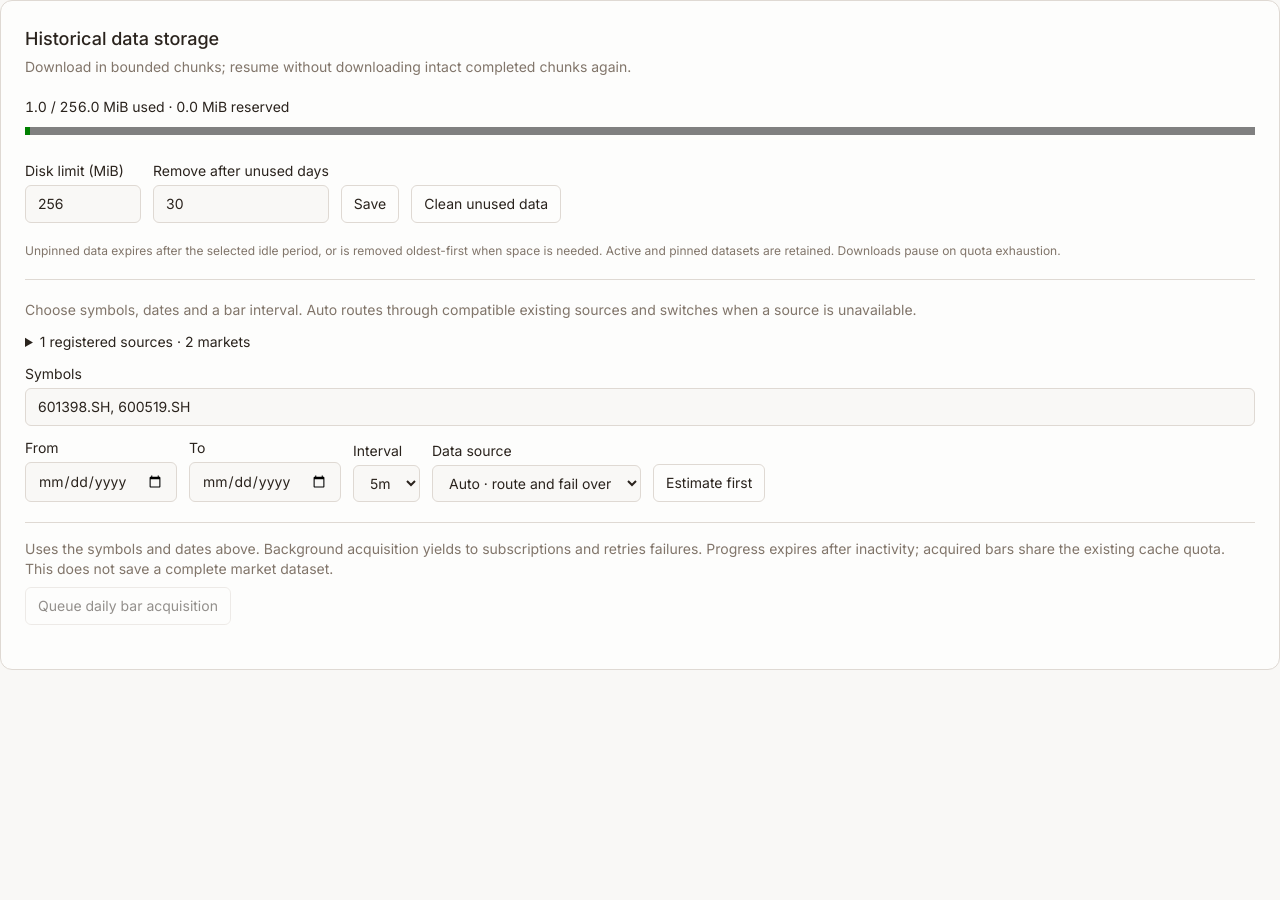
shows failed quota changes and keeps the saved usage visible
Expected: the text "1.0 / 256.0 MiB used · 0.0 MiB reserved" is shown, [25, 98, 289, 115]
What coordinates should you click on to do the following:
click the button "Save"
I would click on:
 (370, 204)
Its box is [341, 185, 399, 223].
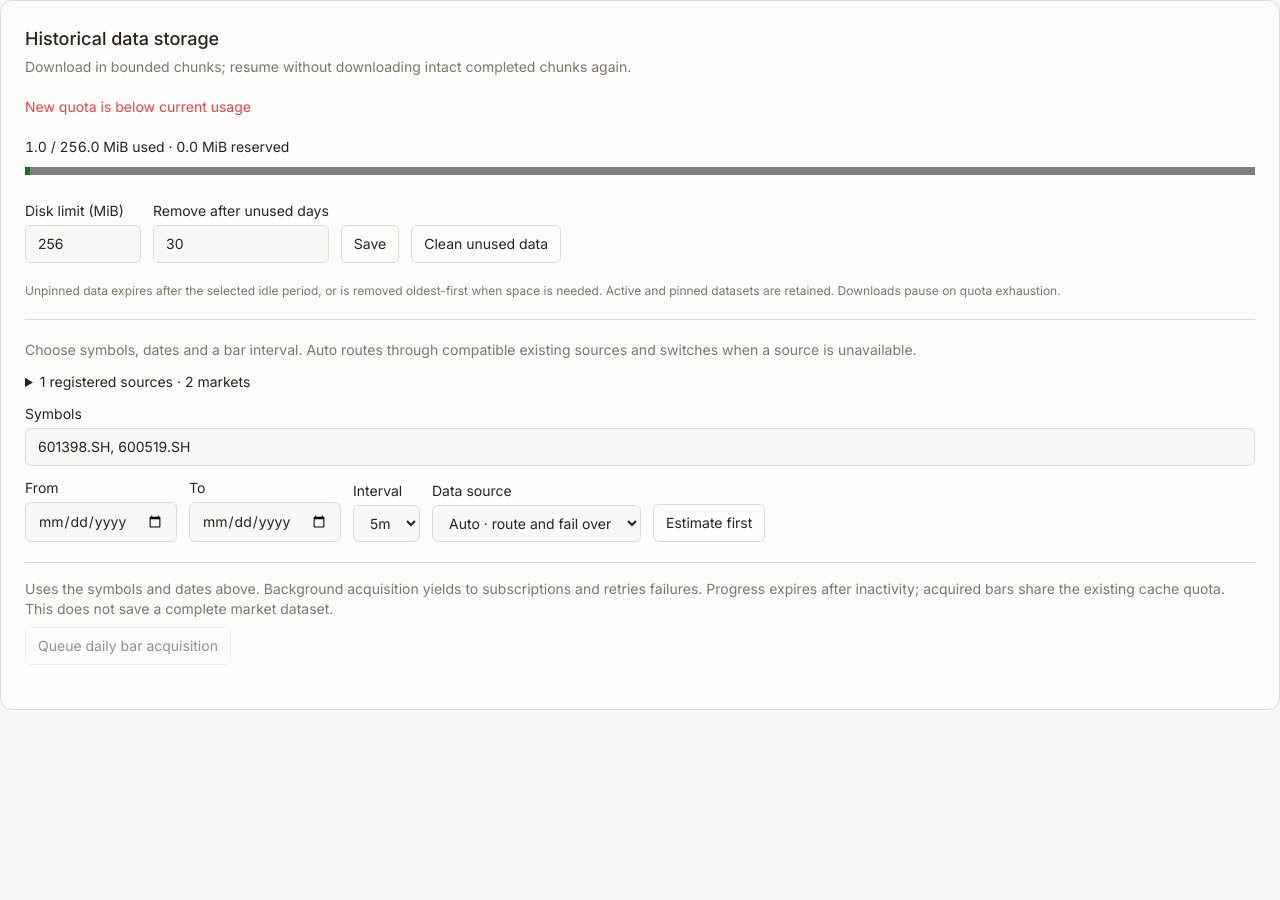
Expected: the text "1.0 / 256.0 MiB used · 0.0 MiB reserved" is shown, [25, 138, 289, 155]
Result: the message shows "below current usage" at [25, 98, 251, 115]
